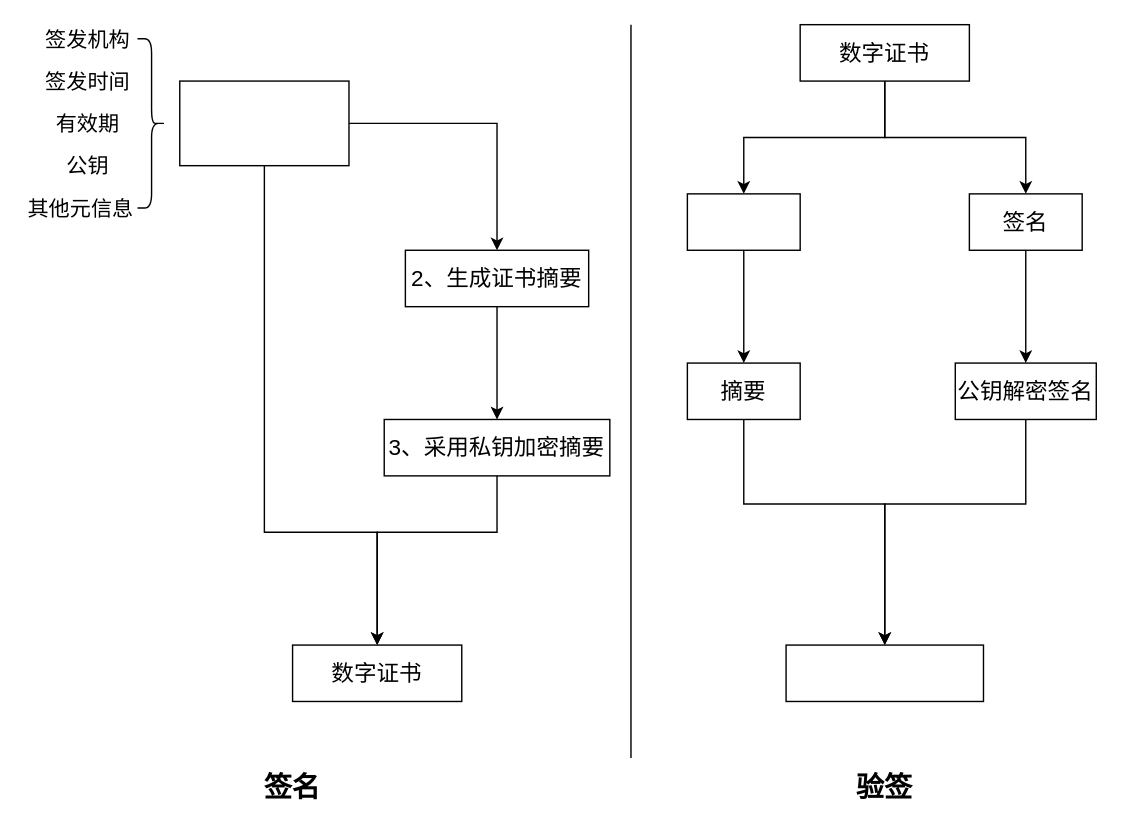
This 1121x839 diagram has some shape labels left out. The centre of each missing label's shape, as x and y in pixels:
1、撰写证书: point (263, 123)
判断证书是否可信: point (884, 672)
证书: point (743, 221)
